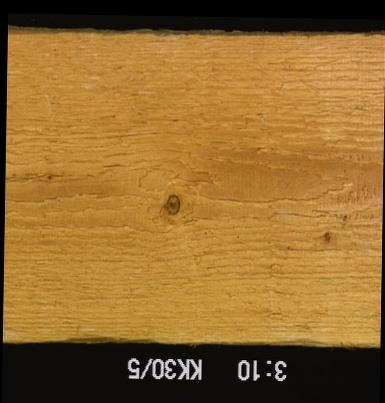dry_knot: (162, 191, 181, 218)
small_knot: (319, 230, 333, 246)
wave: (48, 333, 172, 344), (284, 335, 371, 347)
